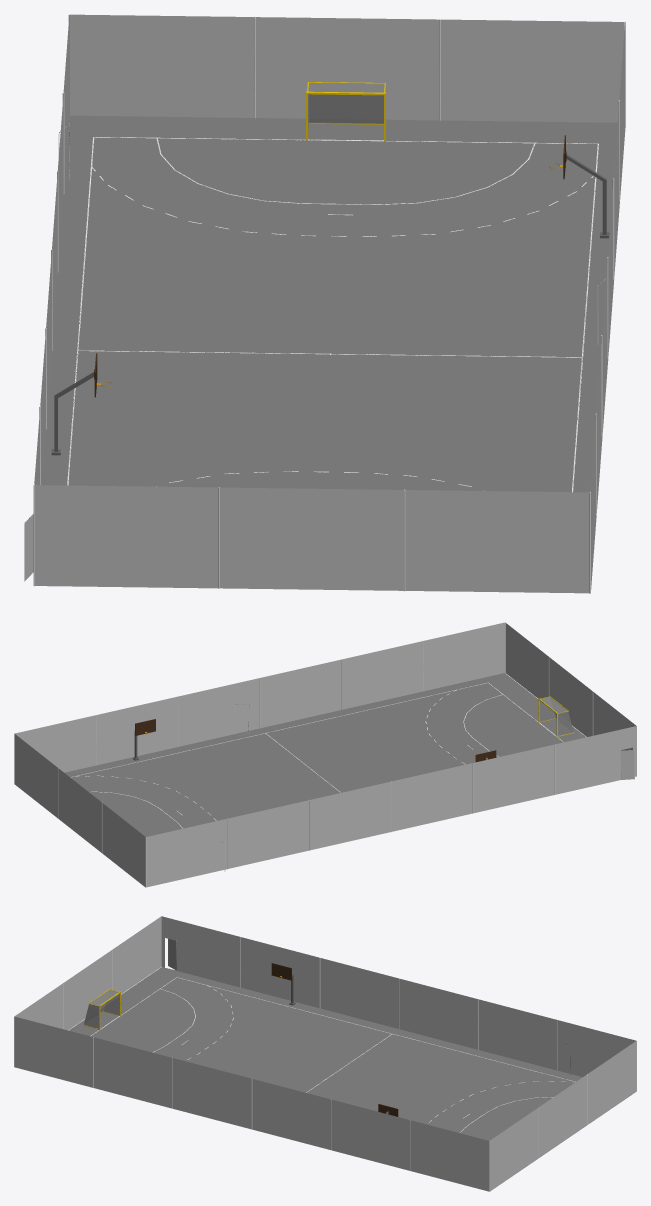
The model's file is Football.dae.
The picture shows the model from 3 angles, top to bottom: view 1: azimuth 30°, elevation 25°; view 2: azimuth 150°, elevation 25°; view 3: azimuth 270°, elevation 25°; orthographic projection. The views are drawn at different scales.
Parts seen in each view (by area): view 1: group_1 (×5), group_5 (×3), group_7 (×3), group_3; view 2: group_1 (×6), group_6 (×6), group_4 (×6), group_7 (×3), group_5 (×3), Tennis_Court__90____1___1_ (×2), group_2; view 3: group_1 (×6), group_4 (×6), group_6 (×6), group_7 (×3), group_5 (×3), Tennis_Court__90____1___1_, group_2.
Boxes of the visible parts, box(x1,y1,x2,y2) form: group_1 (×5): box(42, 115, 625, 589); group_5 (×3): box(35, 485, 589, 593); group_7 (×3): box(70, 14, 624, 122); group_3: box(308, 83, 384, 137); group_1 (×6): box(15, 673, 585, 887); group_6 (×6): box(146, 726, 636, 887); group_4 (×6): box(15, 622, 504, 772); group_7 (×3): box(14, 734, 145, 886); group_5 (×3): box(505, 623, 635, 750); Tennis_Court__90____1___1_ (×2): box(556, 727, 636, 794); group_2: box(539, 697, 573, 735); group_1 (×6): box(15, 967, 635, 1191); group_4 (×6): box(14, 1016, 488, 1191); group_6 (×6): box(162, 916, 635, 1077); group_7 (×3): box(490, 1041, 636, 1190); group_5 (×3): box(14, 916, 161, 1030); Tennis_Court__90____1___1_: box(162, 918, 239, 987); group_2: box(84, 990, 119, 1028).
Size of the model in its own units: 1243 by 1448 by 132.
